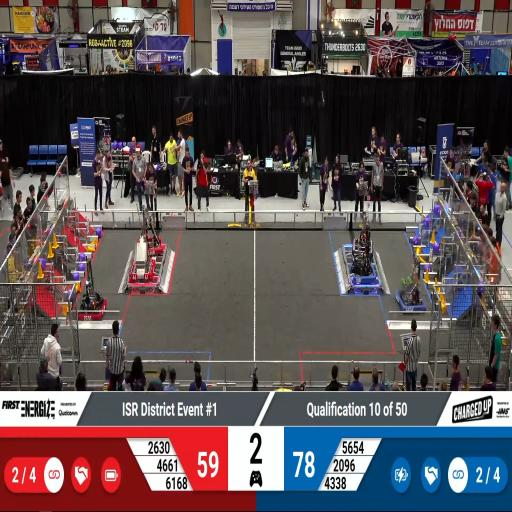robot: (394, 252, 426, 314), (138, 209, 164, 259), (77, 279, 107, 321), (351, 222, 375, 262), (348, 255, 378, 285), (130, 247, 154, 284)
